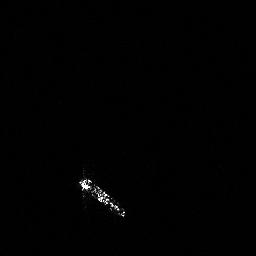ship: (74, 172, 130, 222)
